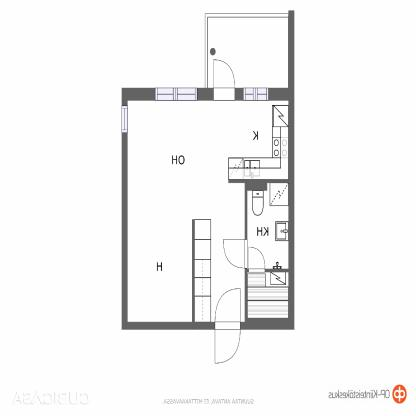door: (214, 288, 240, 364), (213, 59, 237, 99), (222, 238, 248, 272), (246, 245, 266, 275)
window: (155, 87, 197, 103), (243, 87, 268, 101), (121, 105, 127, 134)
zone: (128, 101, 287, 321), (208, 15, 286, 89), (248, 183, 288, 268), (247, 272, 289, 318)
